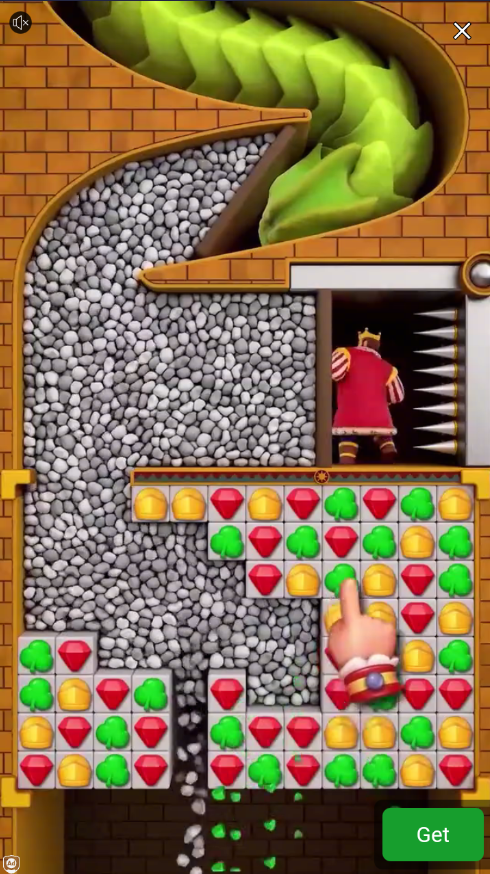close_button: (449, 16, 474, 44)
